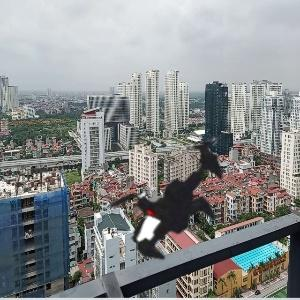drone: (67, 92, 272, 297)
